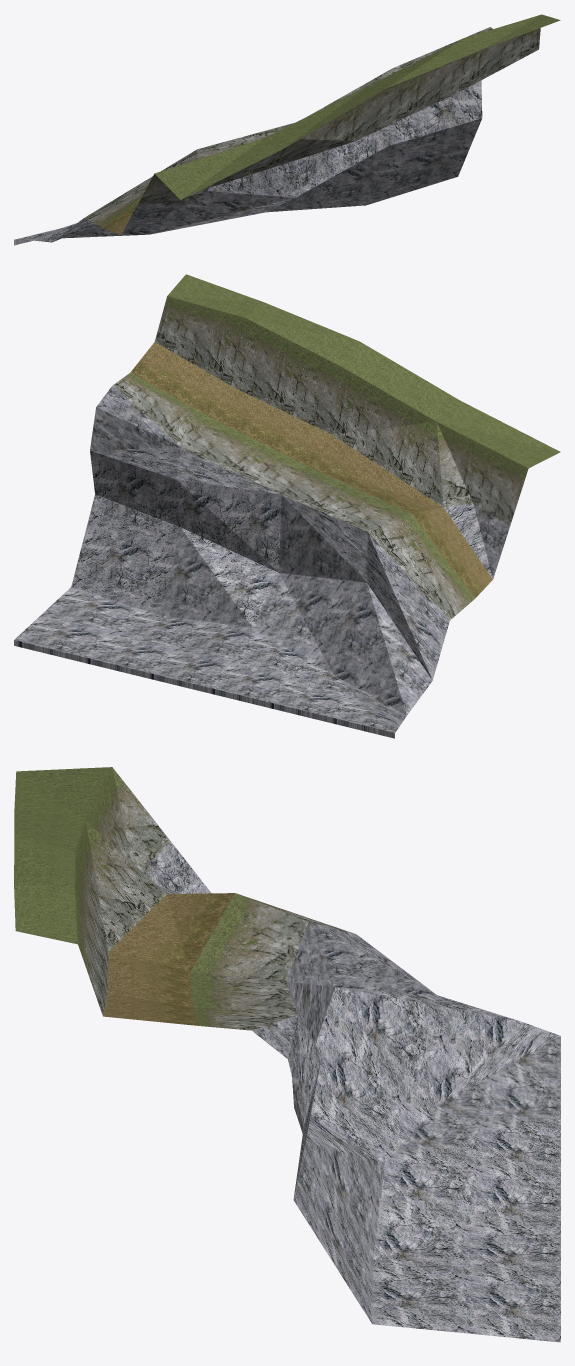
The model's file is ne_bit_02.obj.
The picture shows the model from 3 angles, top to bottom: view 1: azimuth 30°, elevation 25°; view 2: azimuth 150°, elevation 25°; view 3: azimuth 270°, elevation 25°; orthographic projection. The views are drawn at different scales.
Visible parts, largest first — view 1: ne_bit_02; view 2: ne_bit_02; view 3: ne_bit_02.
Part boxes in pixels (x1,y1,x2,y2): ne_bit_02: [14, 14, 560, 245]; ne_bit_02: [14, 274, 560, 738]; ne_bit_02: [14, 767, 560, 1342].
Bounding box in the file's own units: 227 × 142 × 170.
Materials: 6 (6 with a texture image).
